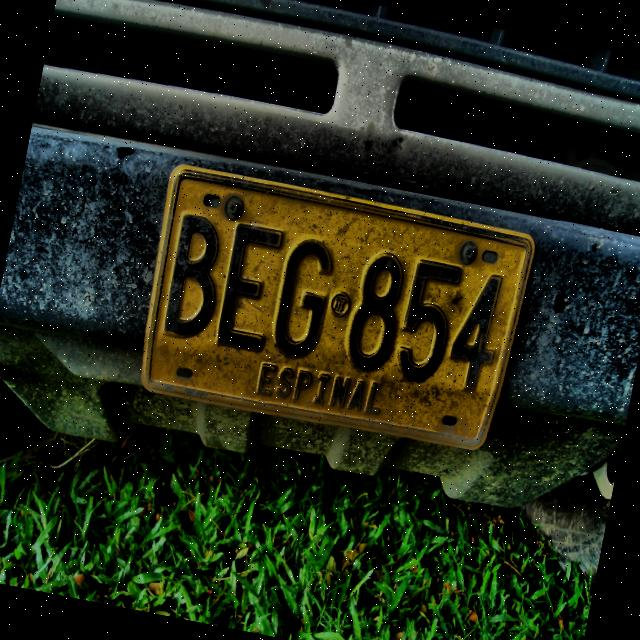plate: (143, 170, 532, 446)
